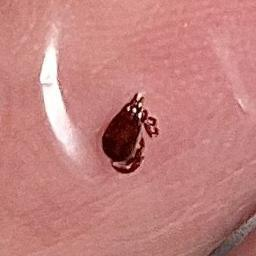Rhipicephalus sanguineus: (102, 92, 158, 174)
